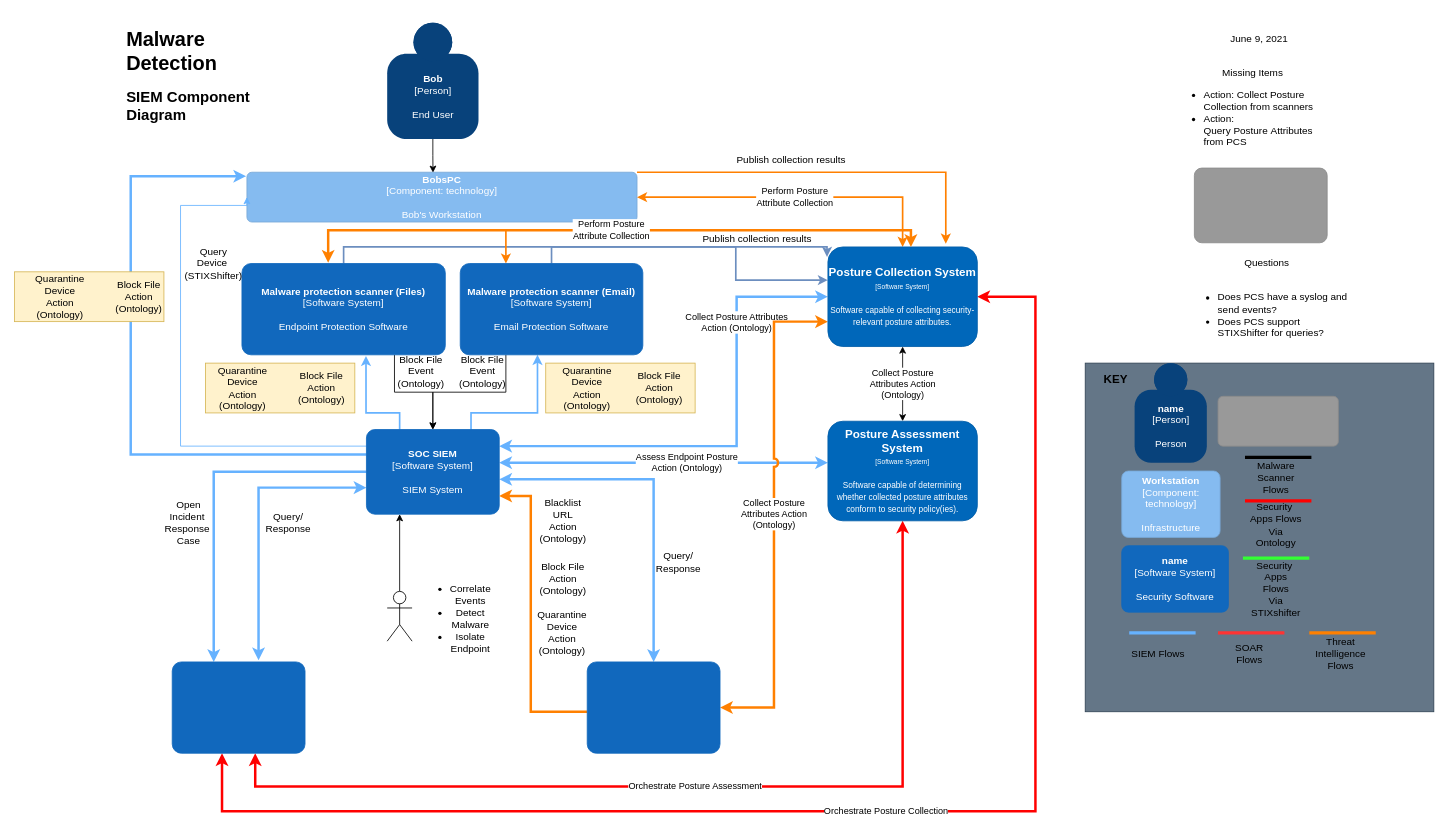
The diagram is 1448 pixels wide and 834 high, and some of its shapes have lost their labels. Each missing label, with the centre of its shape:
OCA [Software System] OCA Component: (1277,420)
Posture Attributes [Software System] Posture Collection System: (1260,205)
SOC Analyst: (399,616)
SOC SOAR [Software System] SOAR System: (238,707)
Threat Intelligence [Software System] Threat Intelligence System: (653,707)
